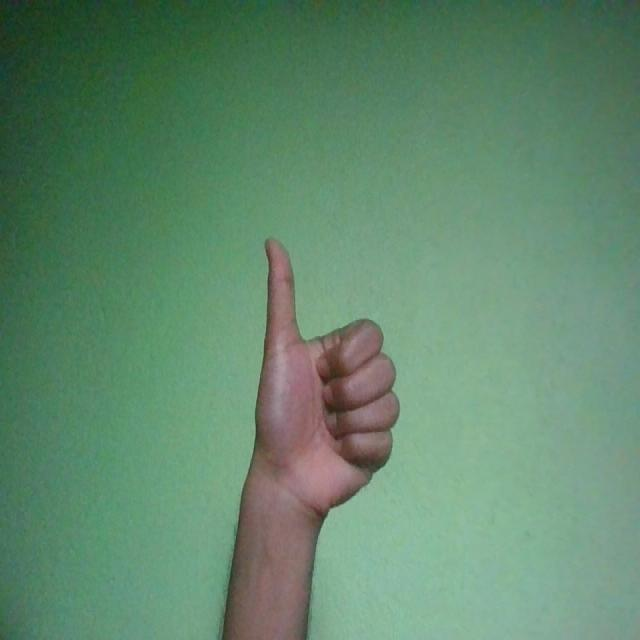Good Job: (255, 237, 401, 524)
